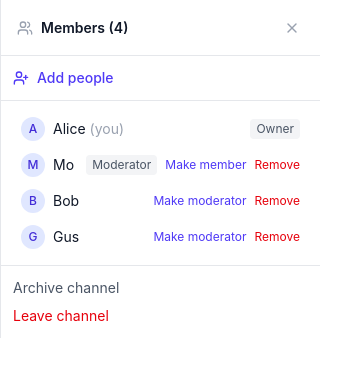
Scenario: the members panel acts through the API › shows why an action failed
Expected: the text "Members (4)" is shown, [41,18,128,38]
Click the button with aria-label "Remove Bob": (277, 201) [254,193,300,209]
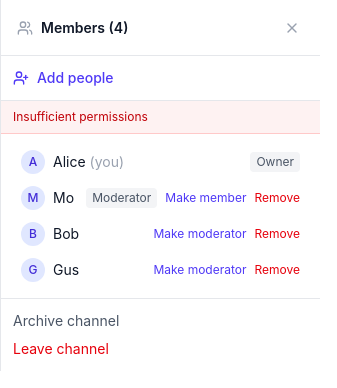
Expected: the message reads "Insufficient permissions", [13,109,148,124]
